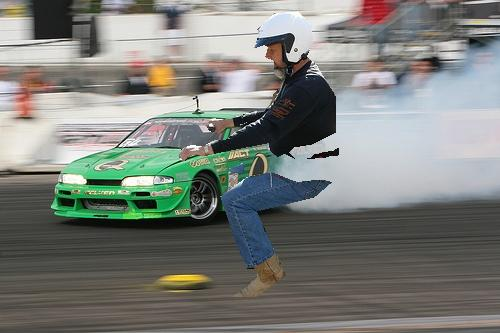tampered: (180, 12, 339, 297)
